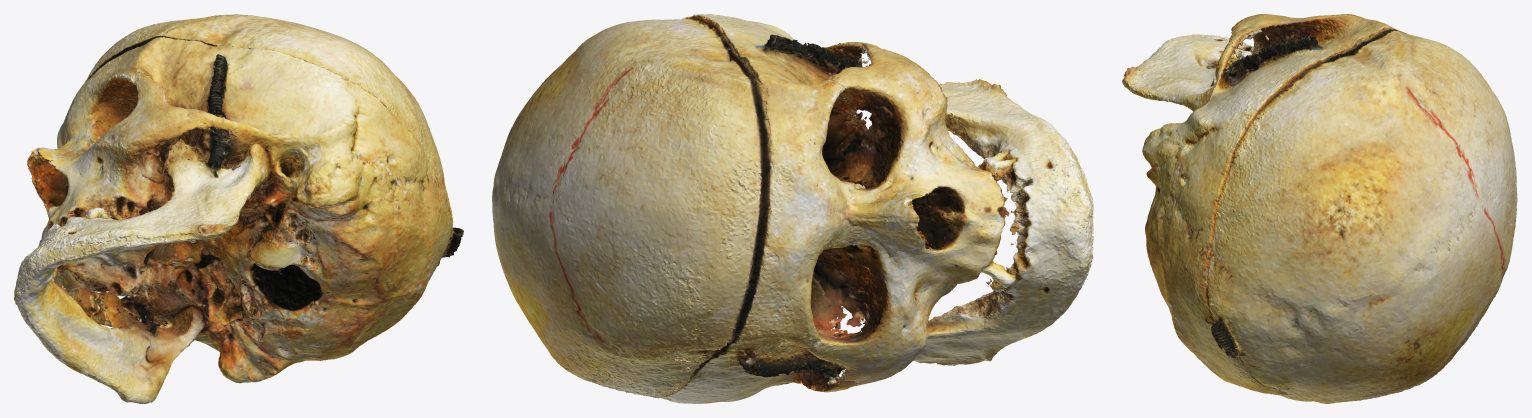
The model's file is MZUR3D-024.glb.
3 views of the same model, side by side, from view 1: azimuth 30°, elevation 25°; view 2: azimuth 150°, elevation 25°; view 3: azimuth 270°, elevation 25° (orthographic). The views are drawn at different scales.
Parts seen in each view (by area): view 1: MZUR3D-024; view 2: MZUR3D-024; view 3: MZUR3D-024.
Part boxes in pixels (<box>): MZUR3D-024: <box>14,14,463,403</box>; MZUR3D-024: <box>492,14,1093,403</box>; MZUR3D-024: <box>1122,14,1517,403</box>.
Bounding box in the file's own units: 1.49 × 0.998 × 1.11.
Materials: 1 (1 with a texture image).
